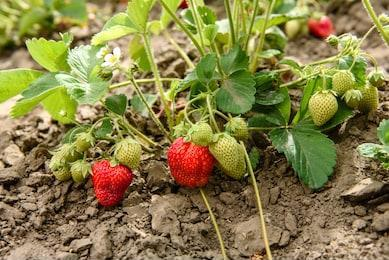Fresa: (164, 133, 218, 193), (87, 155, 137, 210)
